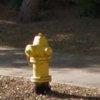Hydrant: (15, 25, 70, 97)
